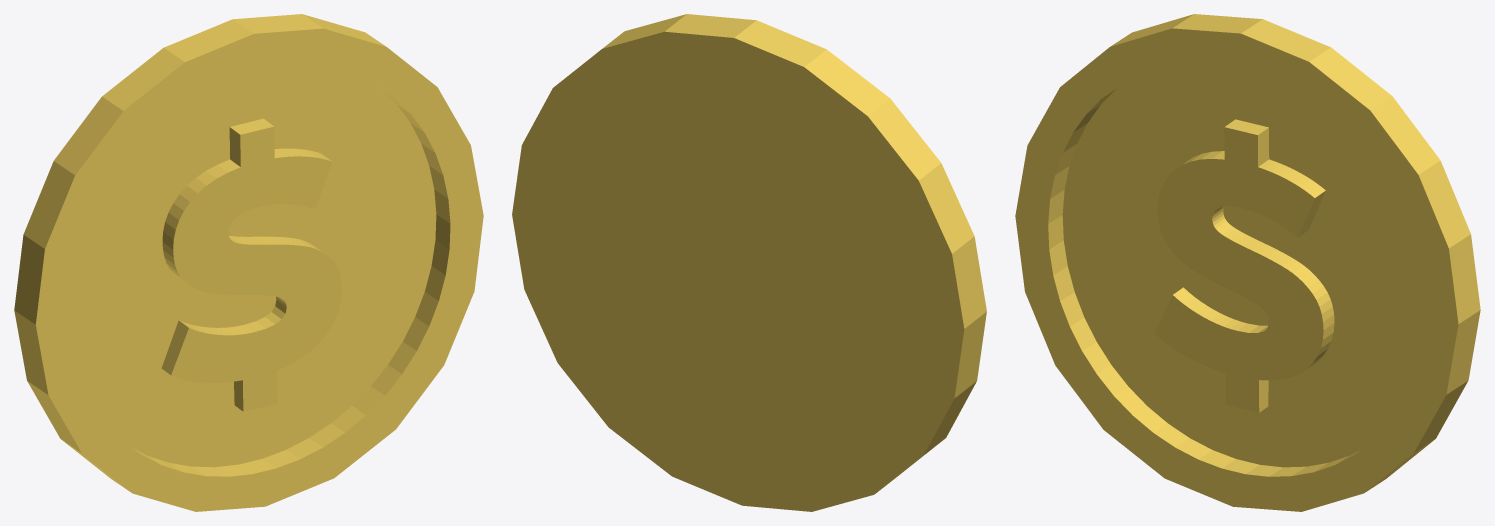
File: coin.gltf
The picture shows the model from 3 angles, left to right: view 1: azimuth 30°, elevation 25°; view 2: azimuth 150°, elevation 25°; view 3: azimuth 330°, elevation 25°; orthographic projection. The views are drawn at different scales.
Parts seen in each view (by area): view 1: coin; view 2: coin; view 3: coin.
Part boxes in pixels (box(x1,y1,x2,y2)): coin: box(14, 14, 483, 511); coin: box(512, 14, 986, 511); coin: box(1015, 14, 1480, 511).
Size of the model in its own units: 0.00688 by 0.0069 by 0.000847.
